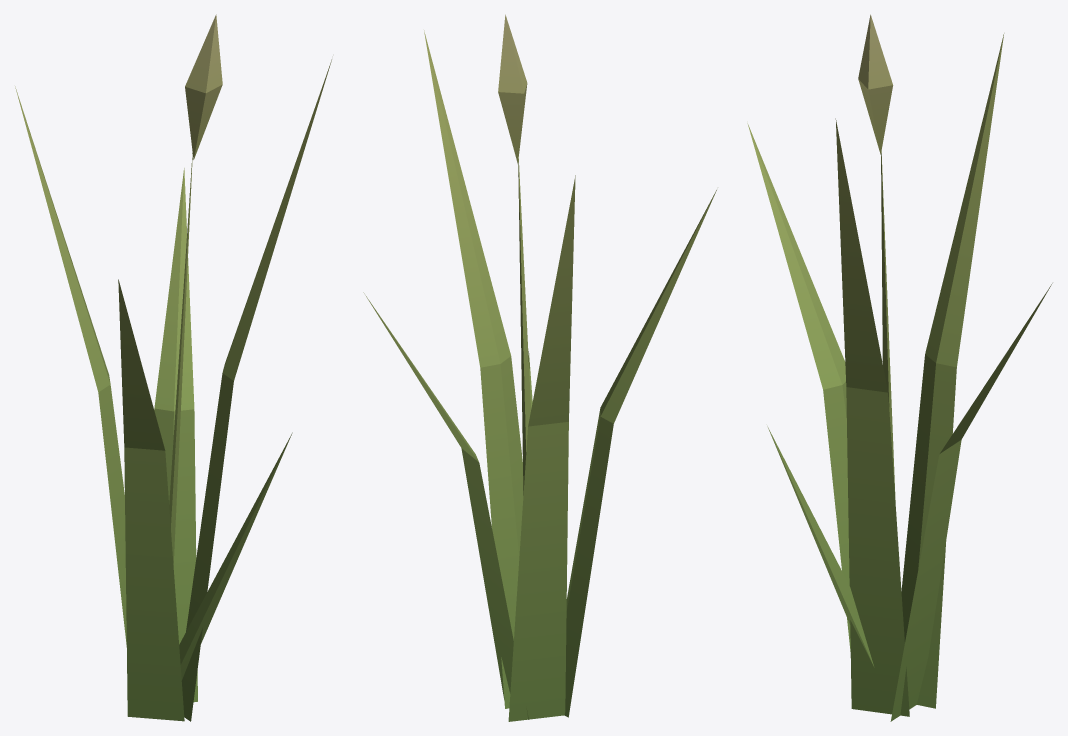
Rendered from reed.glb.
3 renders of one model, left to right at view 1: azimuth 30°, elevation 25°; view 2: azimuth 150°, elevation 25°; view 3: azimuth 270°, elevation 25°, orthographic. The views are drawn at different scales.
Visible parts, largest first — view 1: reed; view 2: reed; view 3: reed.
Part boxes in pixels (x1,y1,x2,y2): reed: [15, 14, 331, 721]; reed: [363, 14, 716, 721]; reed: [747, 14, 1052, 721].
Bounding box in the file's own units: 1.25 × 3.2 × 1.25.
